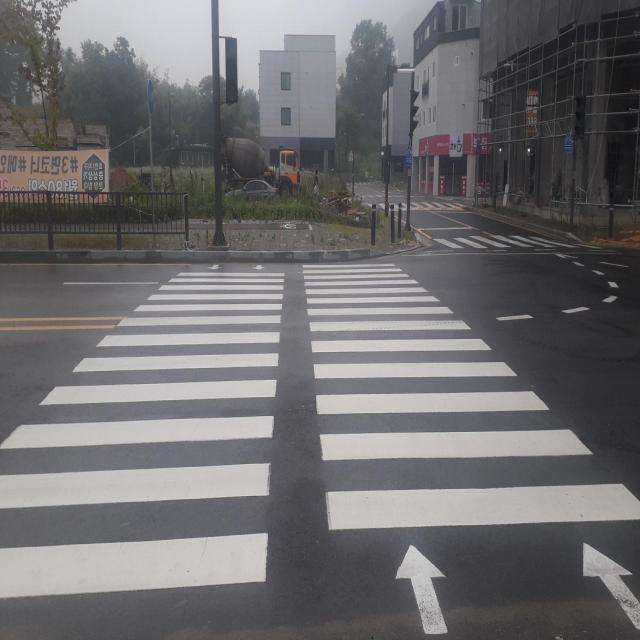횡단보도: (0, 262, 640, 640), (432, 230, 596, 252), (371, 199, 470, 214)
